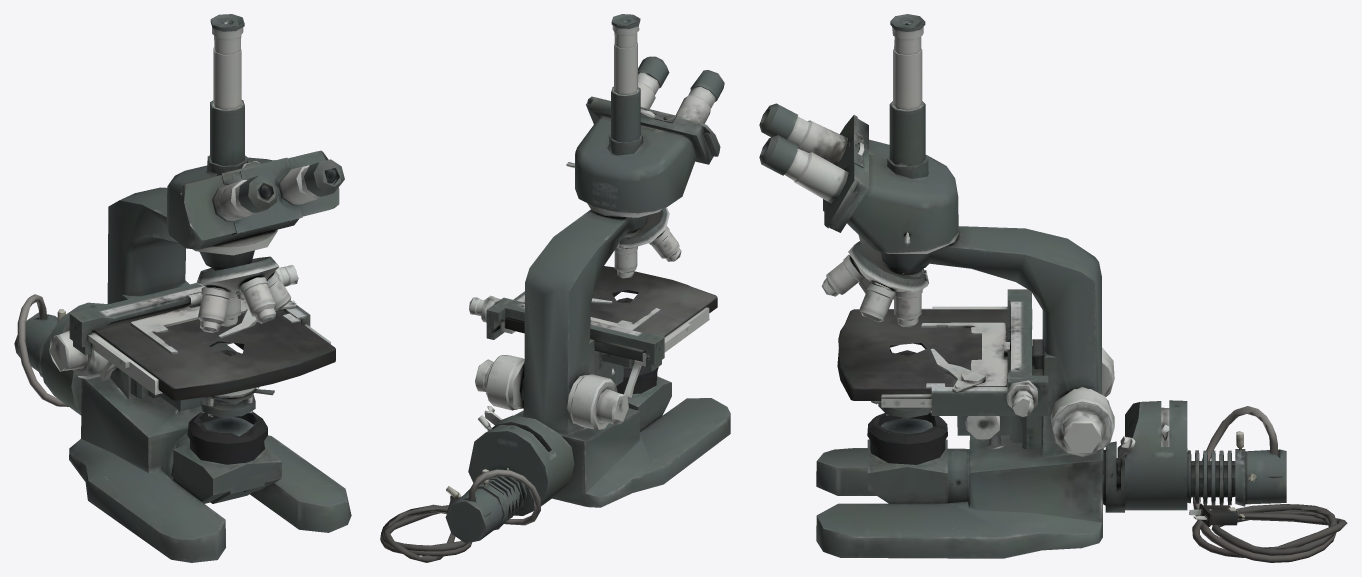
File: industrial-microscope.glb
The picture shows the model from 3 angles, left to right: view 1: azimuth 30°, elevation 25°; view 2: azimuth 150°, elevation 25°; view 3: azimuth 270°, elevation 25°; orthographic projection. The views are drawn at different scales.
Visible parts, largest first — view 1: industrial_microscope, industrial_microscope_cable; view 2: industrial_microscope, industrial_microscope_cable; view 3: industrial_microscope, industrial_microscope_cable.
Boxes of the visible parts, x1,y1,x2,y2 form: industrial_microscope: (14, 14, 351, 562); industrial_microscope_cable: (17, 294, 68, 406); industrial_microscope: (445, 14, 730, 543); industrial_microscope_cable: (380, 469, 540, 562); industrial_microscope: (759, 14, 1286, 558); industrial_microscope_cable: (1189, 406, 1347, 562).
Size of the model in its own units: 0.2145 by 0.4617 by 0.4981.
1 material, 1 textured.
